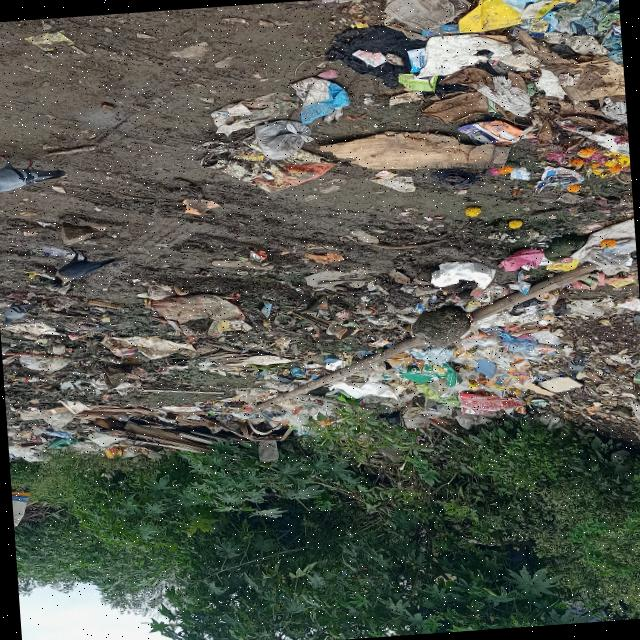garbage: (0, 204, 638, 473), (226, 0, 624, 213)
